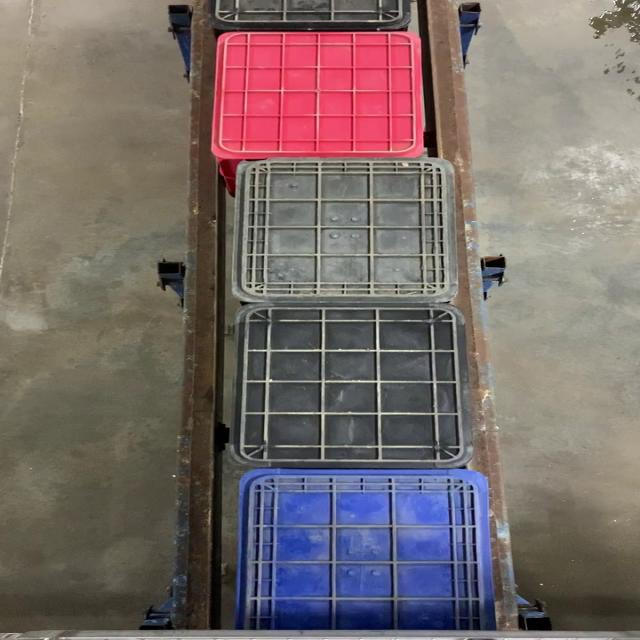Box: (232, 303, 472, 467), (213, 30, 424, 156)
Damaged_box: (232, 157, 460, 302)
